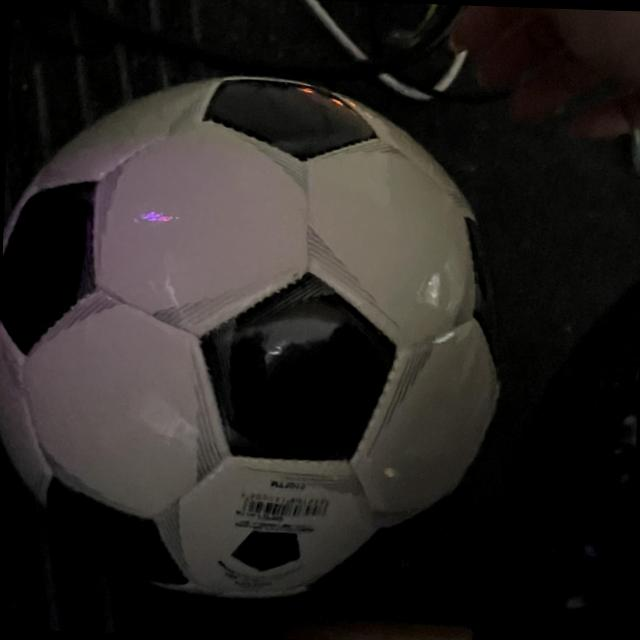Soccer Ball: (0, 67, 519, 604)
